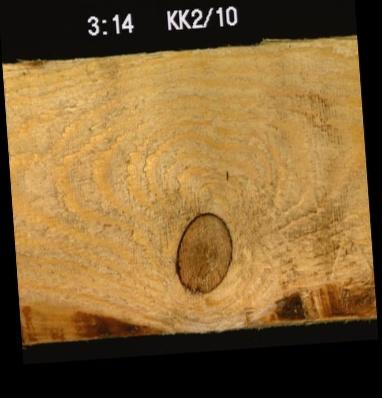dry_knot: (171, 210, 234, 295)
wave: (20, 297, 168, 340), (256, 277, 374, 323)
